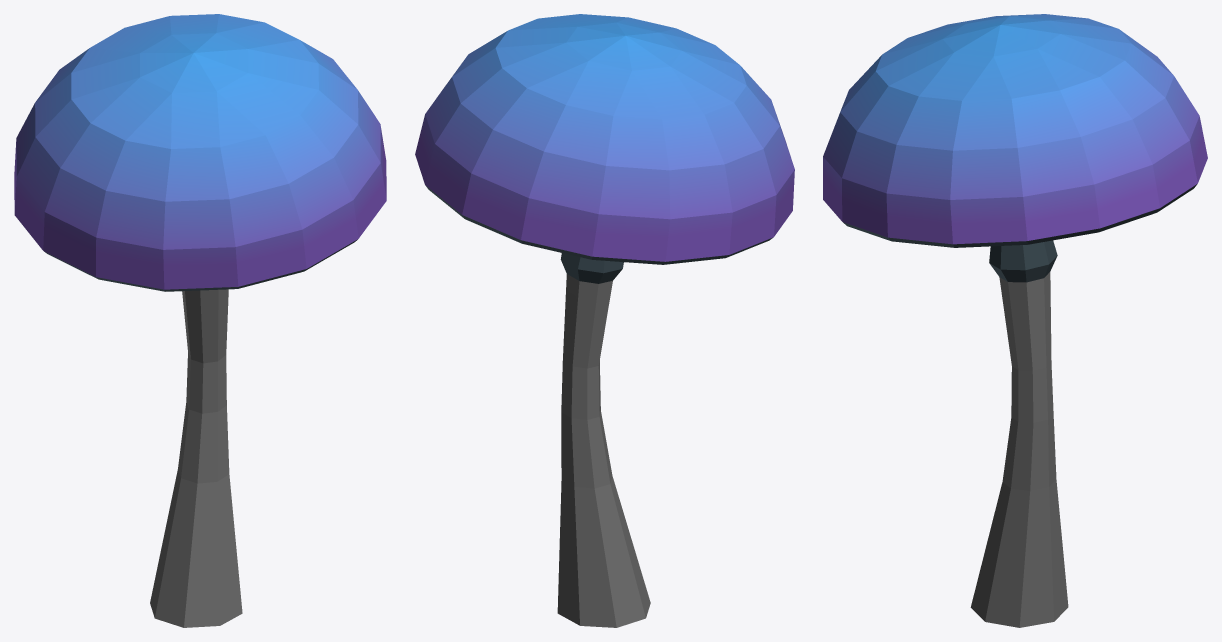
Rendered from mushroom_003.fbx.
The picture shows the model from 3 angles, left to right: view 1: azimuth 30°, elevation 25°; view 2: azimuth 150°, elevation 25°; view 3: azimuth 270°, elevation 25°; orthographic projection.
Visible parts, largest first — view 1: mushroom.003; view 2: mushroom.003; view 3: mushroom.003.
Part boxes in pixels (<box>): mushroom.003: <box>14,14,386,627</box>; mushroom.003: <box>415,14,794,627</box>; mushroom.003: <box>823,14,1207,627</box>.
Bounding box in the file's own units: 1158 × 1913 × 1158.
1 material, 1 textured.
